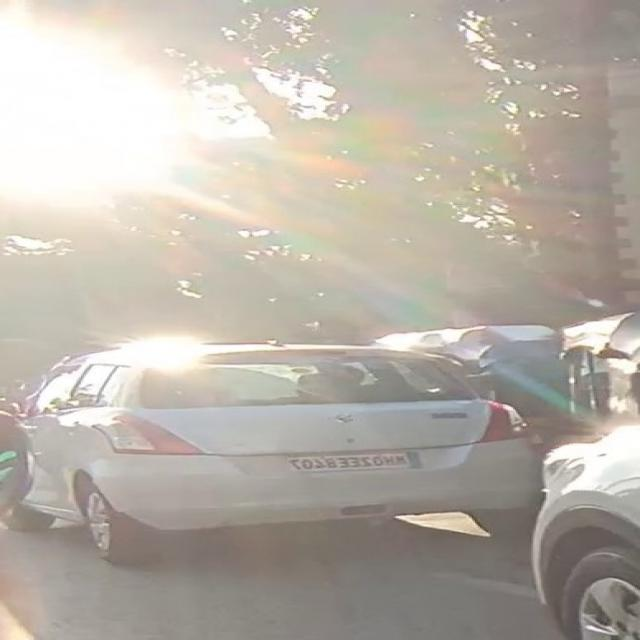license_plate: (277, 444, 431, 483)
